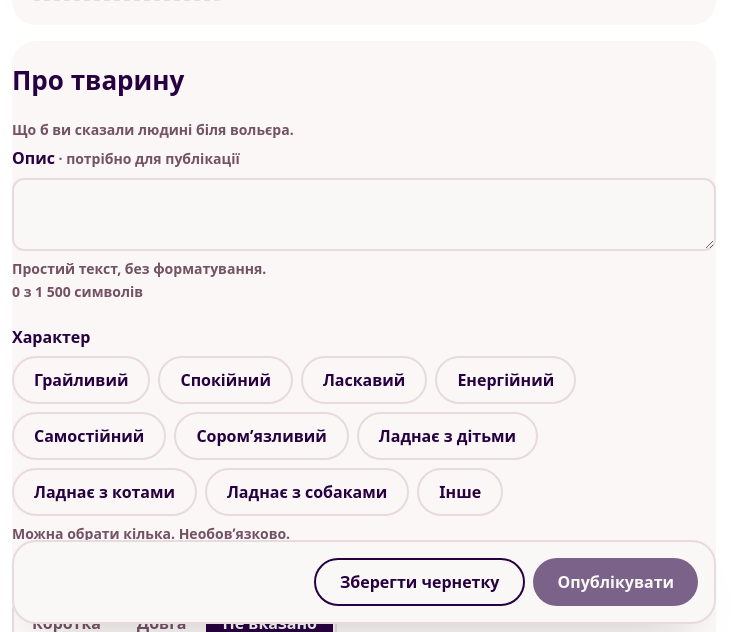
Test: a draft saves itself (T6) › a registry-confirmed fact refused by the server says it can't be changed here
(page scrolled)
Type "Лагідна." into the text box labelled "Опис · потрібно для публікації" at x=364, y=214, box [12,178,716,251]
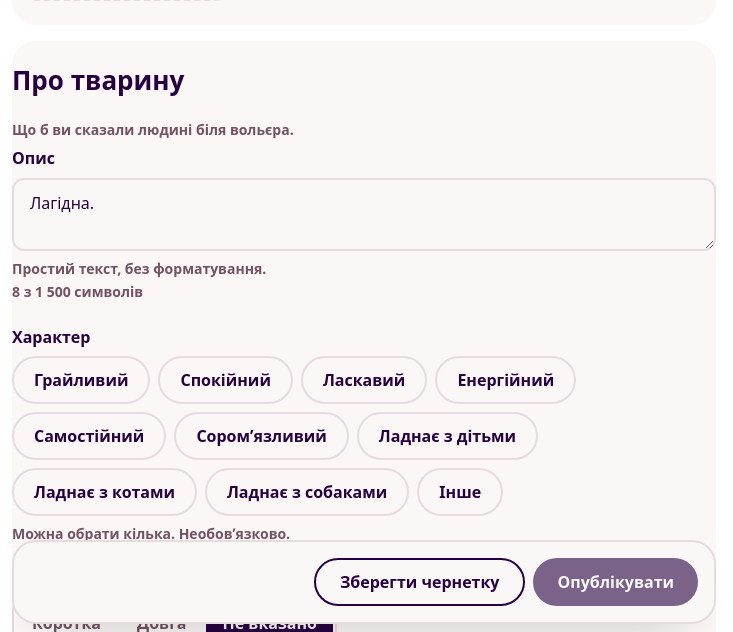
Click the button "Зберегти чернетку" at x=420, y=582, box [314,558,525,606]
(page scrolled)
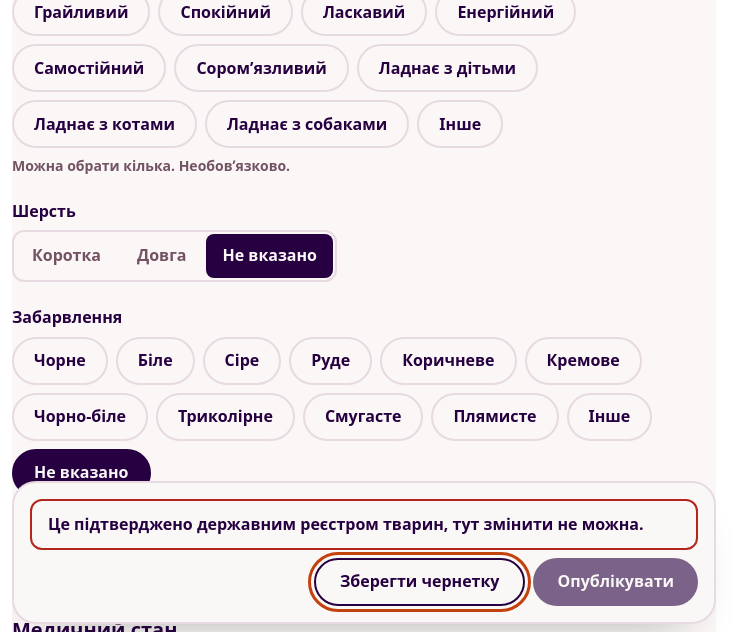
Expected: the text "Це підтверджено державним реєстром тварин, тут змінити не можна." is shown, [30,500,698,550]
